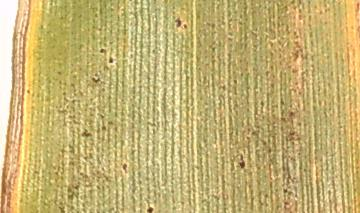tarspot: (234, 154, 249, 171), (173, 14, 183, 31), (141, 204, 156, 213), (105, 54, 115, 67), (96, 46, 108, 55)
